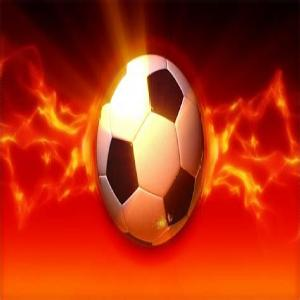Football: (96, 50, 204, 245)
